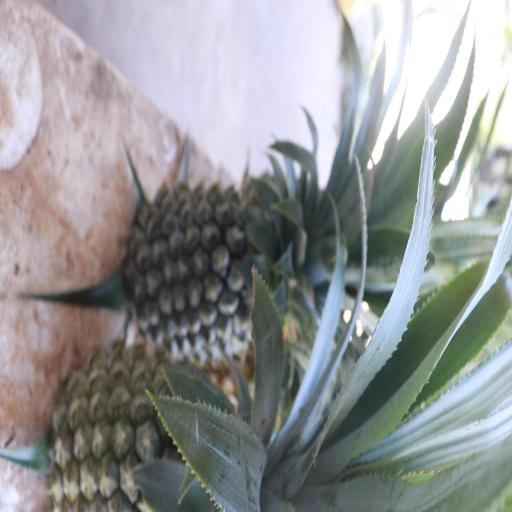------------------------------: (51, 336, 256, 511)
